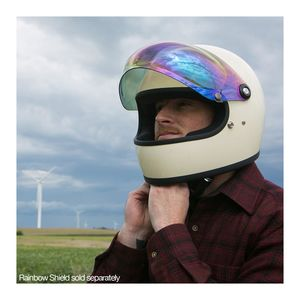with_helmet: (122, 41, 267, 176)
